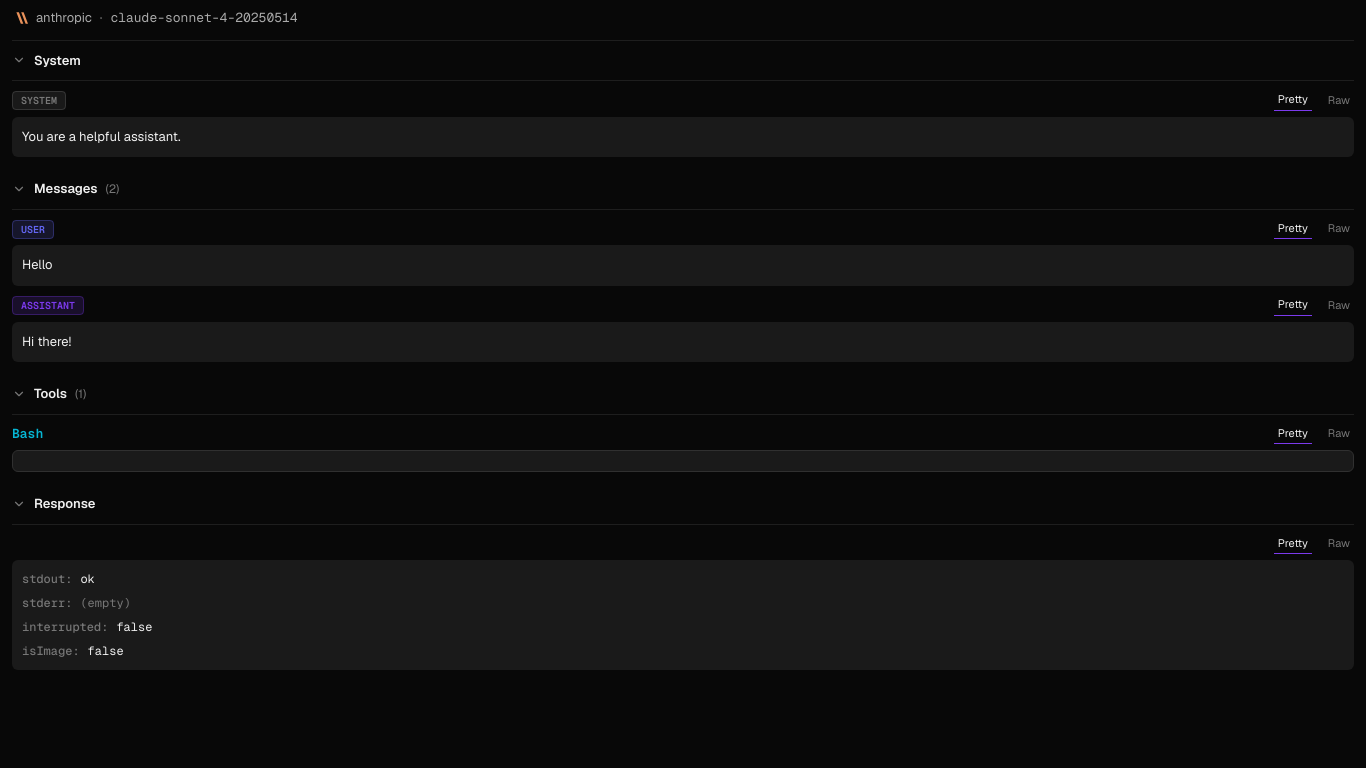
Test: PromptViewer tool_call content › Pretty and Raw tabs render different DOM for tool_result response
expect the button "Response" is shown: met, box [12,484,1354,525]
expect the element with test id "tool-result-parsed" is shown: met, box [12,560,1354,670]
Click the button with test id "prompt-box-response-raw" at [1339, 544], box [1324,533,1354,554]
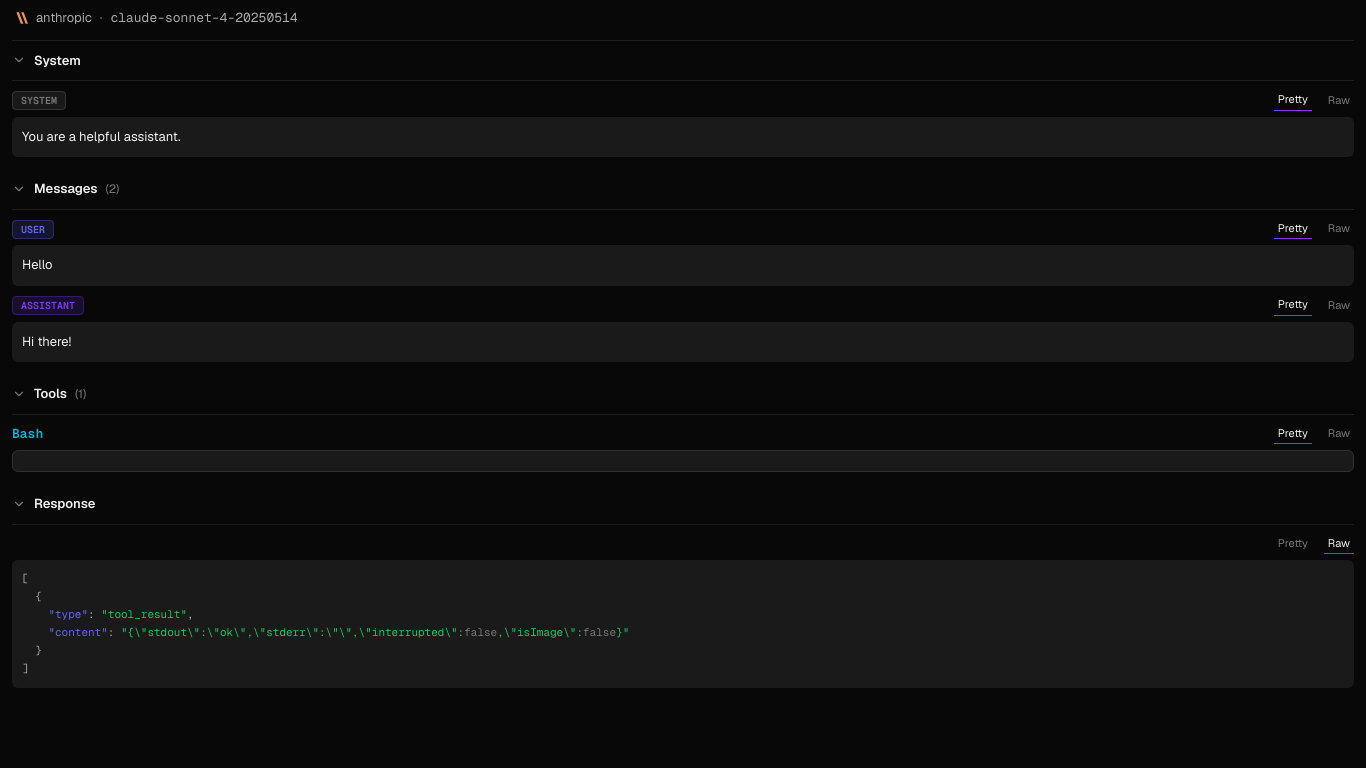
expect the element with test id "tool-result-parsed" is gone: met
expect the element with test id "prompt-box-response-raw-json" is shown: met, box [12,560,1354,688]
